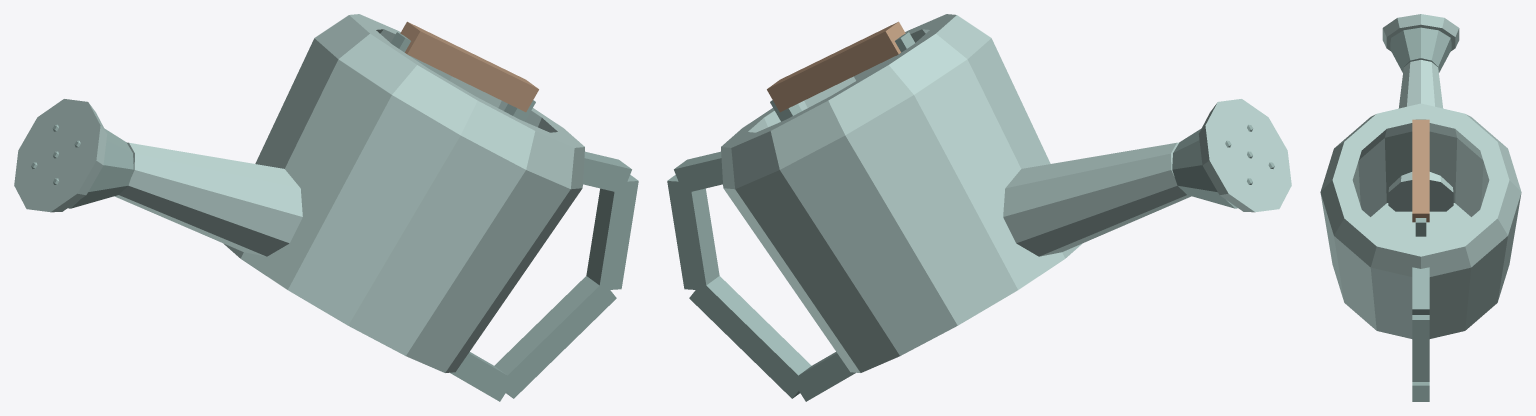
Rendered from crafted-tool-watering-can-0.glb.
3 views of the same model, side by side, from view 1: azimuth 30°, elevation 25°; view 2: azimuth 150°, elevation 25°; view 3: azimuth 270°, elevation 25° (orthographic). The views are drawn at different scales.
Visible parts, largest first — view 1: vessel, spout, rose, handle-2, top-grip, handle-1, rose-neck, handle, handle-3; view 2: vessel, spout, rose, handle-2, top-grip, handle-1, rose-neck, handle, handle-3; view 3: vessel, spout, rose-neck, top-grip, rose, handle-1, handle, handle-2, grip-support-1.
Part boxes in pixels (left/top/right/bottom): vessel: left=223, top=14, right=584, bottom=372; spout: left=114, top=142, right=302, bottom=256; rose: left=14, top=99, right=107, bottom=212; handle-2: left=494, top=276, right=616, bottom=398; top-grip: left=400, top=21, right=538, bottom=112; handle-1: left=586, top=174, right=638, bottom=290; rose-neck: left=68, top=128, right=133, bottom=208; handle: left=583, top=151, right=631, bottom=193; handle-3: left=450, top=352, right=507, bottom=401; vessel: left=721, top=14, right=1082, bottom=372; spout: left=1003, top=142, right=1191, bottom=256; rose: left=1198, top=99, right=1291, bottom=212; handle-2: left=689, top=276, right=811, bottom=398; top-grip: left=767, top=21, right=905, bottom=112; handle-1: left=667, top=174, right=719, bottom=290; rose-neck: left=1172, top=128, right=1237, bottom=208; handle: left=674, top=151, right=722, bottom=193; handle-3: left=798, top=352, right=855, bottom=401; vessel: left=1320, top=103, right=1521, bottom=338; spout: left=1388, top=60, right=1453, bottom=211; rose-neck: left=1390, top=27, right=1451, bottom=72; top-grip: left=1412, top=119, right=1429, bottom=222; rose: left=1382, top=14, right=1459, bottom=50; handle-1: left=1412, top=315, right=1429, bottom=381; handle: left=1412, top=267, right=1429, bottom=314; handle-2: left=1412, top=382, right=1429, bottom=401; grip-support-1: left=1415, top=218, right=1426, bottom=236.
Bounding box in the file's own units: 1.13 × 0.701 × 0.5.
